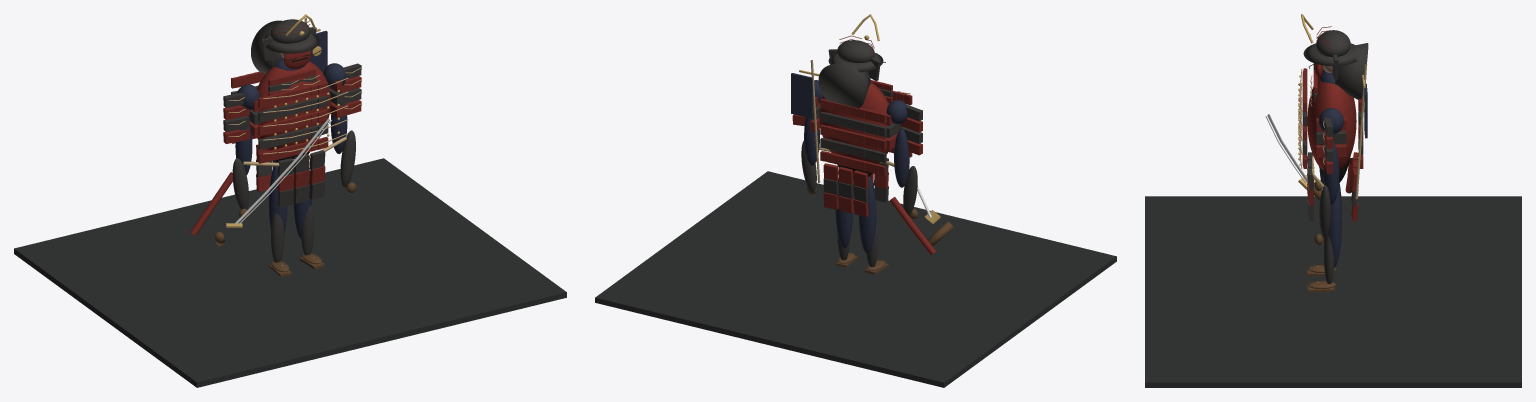
Rendered from actor-takeda-04.glb.
3 views of the same model, side by side, from view 1: azimuth 30°, elevation 25°; view 2: azimuth 150°, elevation 25°; view 3: azimuth 270°, elevation 25° (orthographic). The views are drawn at different scales.
Visible parts, largest first — view 1: matte charcoal inspection plinth, rounded do cuirass silhouette, rear shikoro neck guard flare, segmented kabuto helmet bowl, right kote forearm guard, left kote forearm guard, wide kabuto brim, left shin greave, left hakama trouser leg, lacquered saya scabbard at left hip, right shin greave, right armored upper arm; view 2: matte charcoal inspection plinth, rear shikoro neck guard flare, rounded do cuirass silhouette, cloth sashimono banner panel, left hakama trouser leg, left armored upper arm, segmented kabuto helmet bowl, right hakama trouser leg, left kote forearm guard, right armored upper arm, lacquered saya scabbard at left hip, right kote forearm guard; view 3: matte charcoal inspection plinth, rounded do cuirass silhouette, rear shikoro neck guard flare, segmented kabuto helmet bowl, right hakama trouser leg, wide kabuto brim, right armored upper arm, right kote forearm guard, right shin greave, right shoulder undercloth, bamboo sashimono back pole.
Part boxes in pixels (left/top/right/bottom): matte charcoal inspection plinth: left=14, top=158, right=566, bottom=387; rounded do cuirass silhouette: left=257, top=61, right=330, bottom=150; rear shikoro neck guard flare: left=251, top=20, right=282, bottom=74; segmented kabuto helmet bowl: left=270, top=19, right=310, bottom=43; right kote forearm guard: left=340, top=130, right=355, bottom=187; left kote forearm guard: left=232, top=158, right=248, bottom=209; wide kabuto brim: left=261, top=33, right=319, bottom=53; left shin greave: left=271, top=213, right=284, bottom=262; left hakama trouser leg: left=269, top=166, right=287, bottom=234; lacquered saya scabbard at left hip: left=190, top=172, right=232, bottom=235; right shin greave: left=301, top=205, right=314, bottom=255; right armored upper arm: left=330, top=104, right=347, bottom=153; matte charcoal inspection plinth: left=595, top=171, right=1116, bottom=387; rear shikoro neck guard flare: left=818, top=61, right=870, bottom=108; rounded do cuirass silhouette: left=819, top=82, right=888, bottom=163; cloth sashimono banner panel: left=791, top=73, right=813, bottom=118; left hakama trouser leg: left=859, top=176, right=876, bottom=253; left armored upper arm: left=894, top=129, right=909, bottom=187; segmented kabuto helmet bowl: left=837, top=40, right=874, bottom=62; right hakama trouser leg: left=835, top=180, right=852, bottom=248; left kote forearm guard: left=903, top=166, right=917, bottom=215; right armored upper arm: left=804, top=117, right=819, bottom=165; lacquered saya scabbard at left hip: left=889, top=197, right=935, bottom=254; right kote forearm guard: left=801, top=140, right=816, bottom=192; matte charcoal inspection plinth: left=1145, top=196, right=1521, bottom=387; rounded do cuirass silhouette: left=1307, top=78, right=1356, bottom=170; rear shikoro neck guard flare: left=1335, top=43, right=1368, bottom=99; segmented kabuto helmet bowl: left=1316, top=30, right=1350, bottom=56; right hakama trouser leg: left=1328, top=189, right=1341, bottom=267; wide kabuto brim: left=1303, top=43, right=1356, bottom=66; right armored upper arm: left=1323, top=142, right=1339, bottom=204; right kote forearm guard: left=1319, top=185, right=1330, bottom=238; right shin greave: left=1324, top=235, right=1334, bottom=283; right shoulder undercloth: left=1319, top=108, right=1343, bottom=134; bamboo sashimono back pole: left=1355, top=64, right=1366, bottom=199.
Size of the model in its own units: 4.2 by 2.96 by 3.6.
